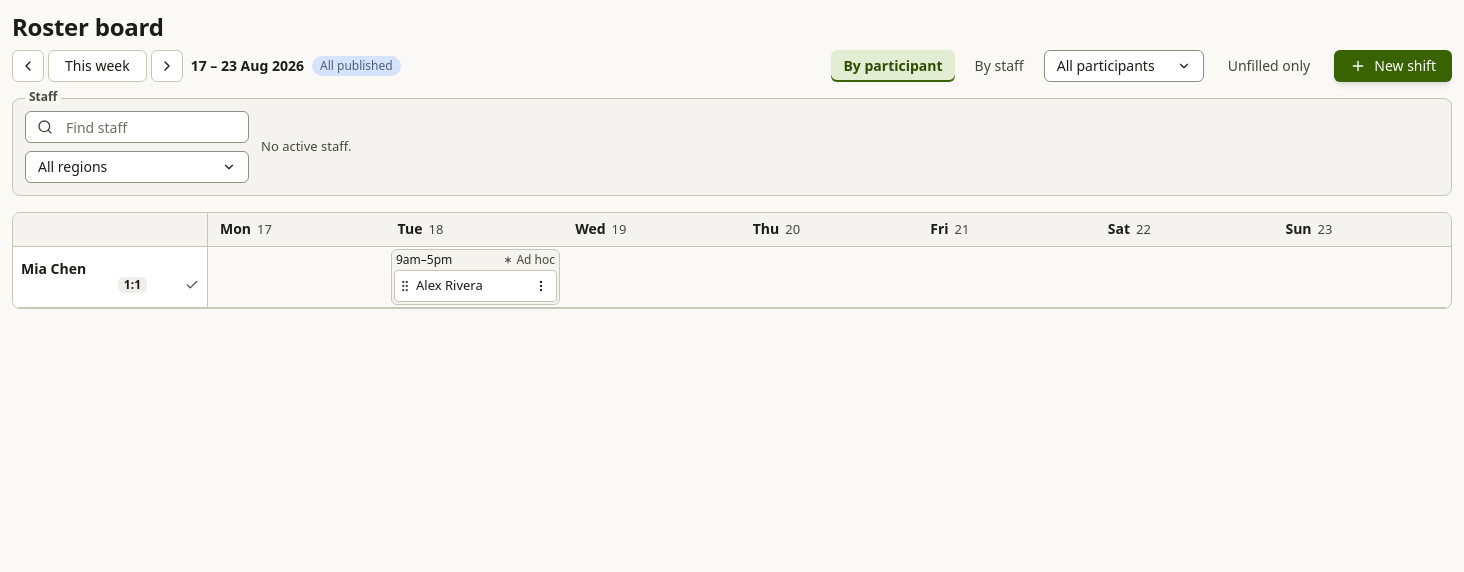
RosterBoardPage — an assign the server refuses is no longer swallowed › is cleared when the next attempt starts, even before it finishes
Click the button named "Actions for Mia Chen's shift".
click(541, 286)  # box [529,274,553,298]
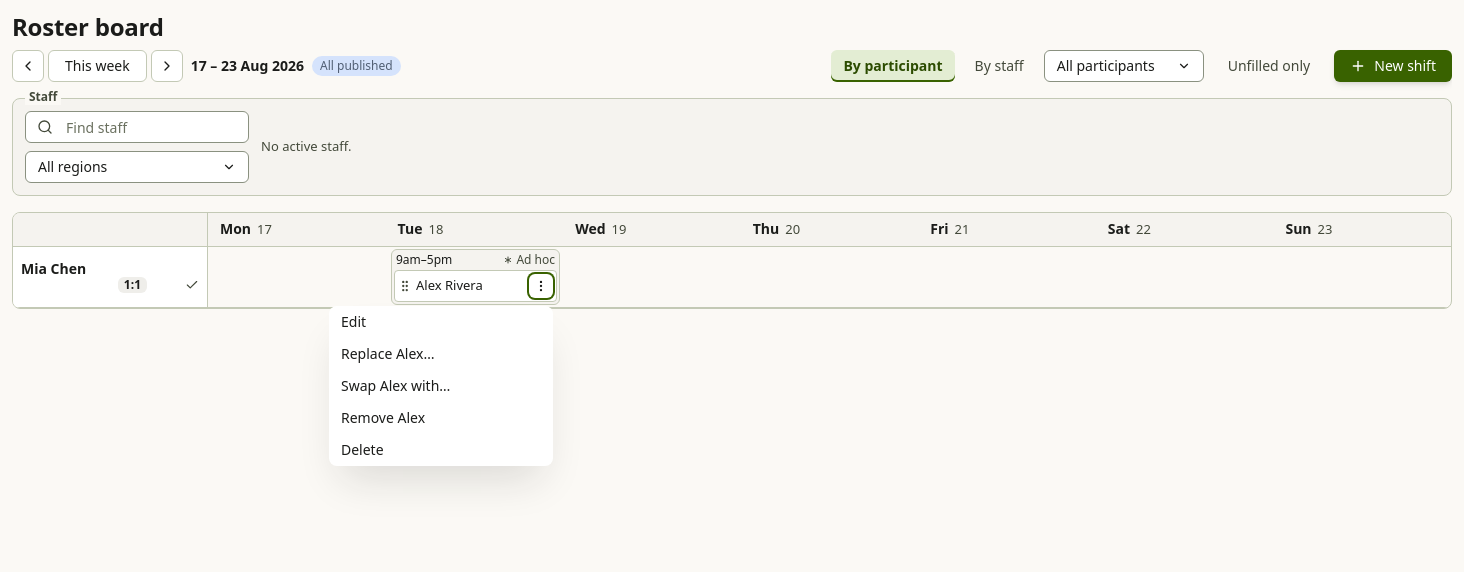
Click the option "Remove Alex".
click(383, 417)  # box [341,408,425,426]
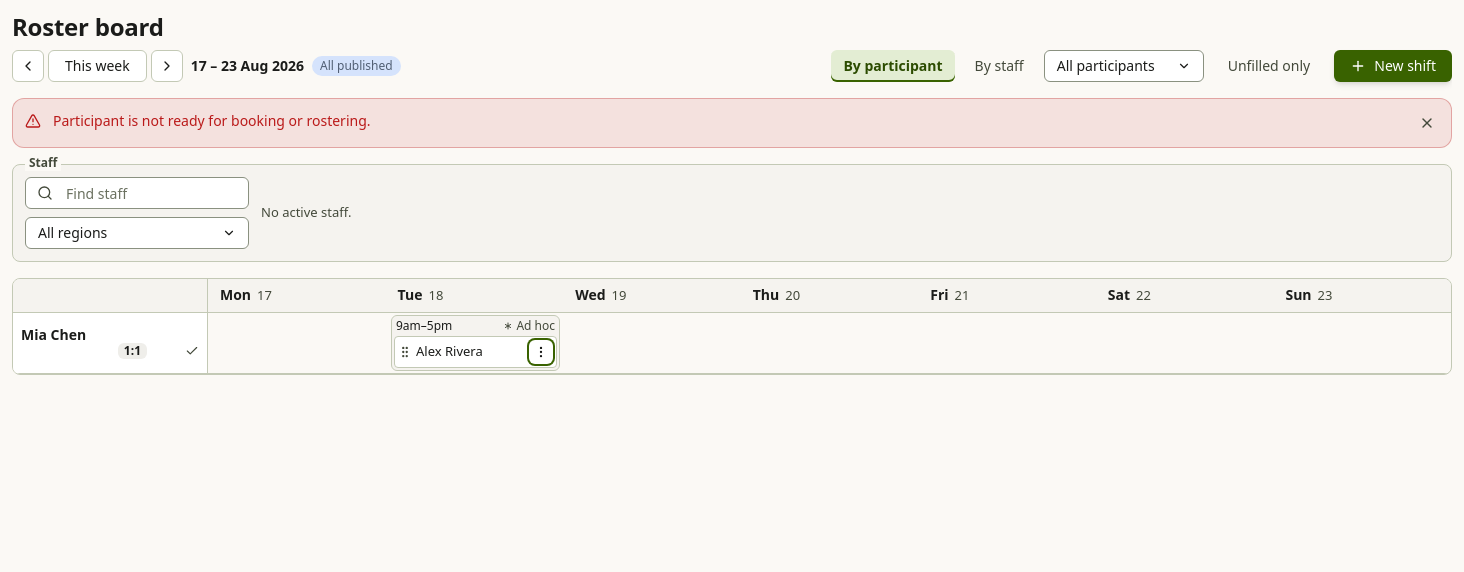
Expected: the text "Participant is not ready for booking or rostering." is shown, [53,111,370,130]
Click the button named "Actions for Mia Chen's shift".
click(541, 352)  # box [529,340,553,364]
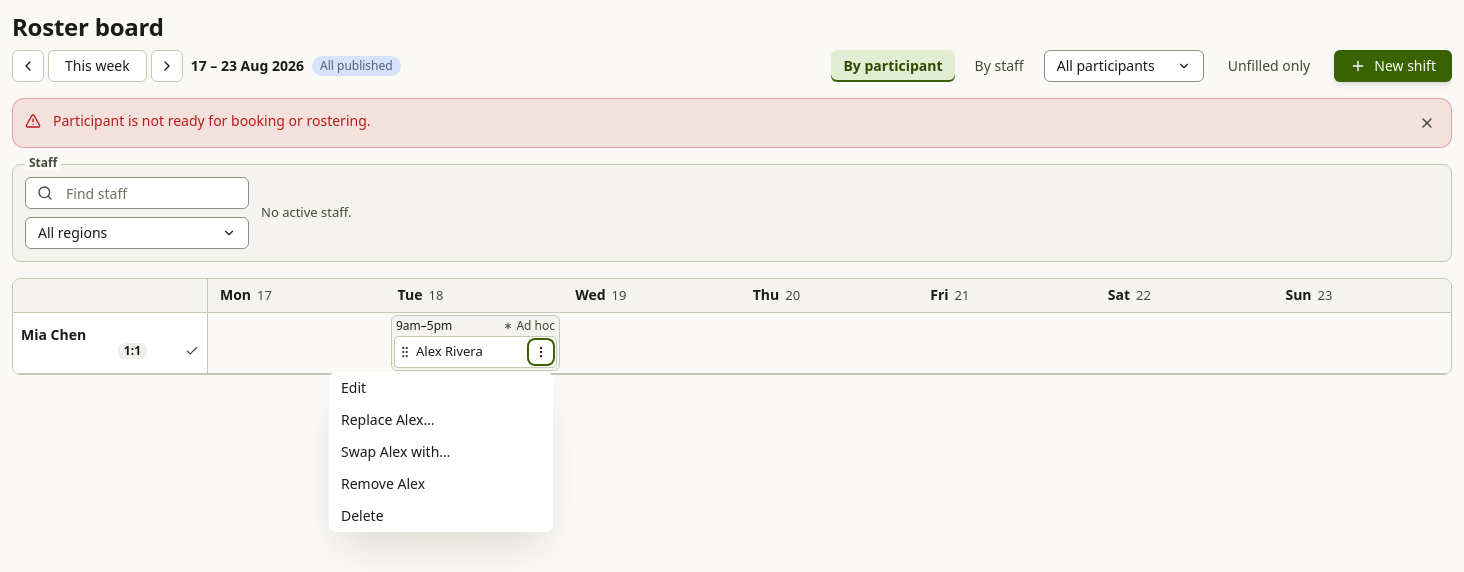
Click the option "Remove Alex".
click(383, 483)  # box [341,474,425,492]
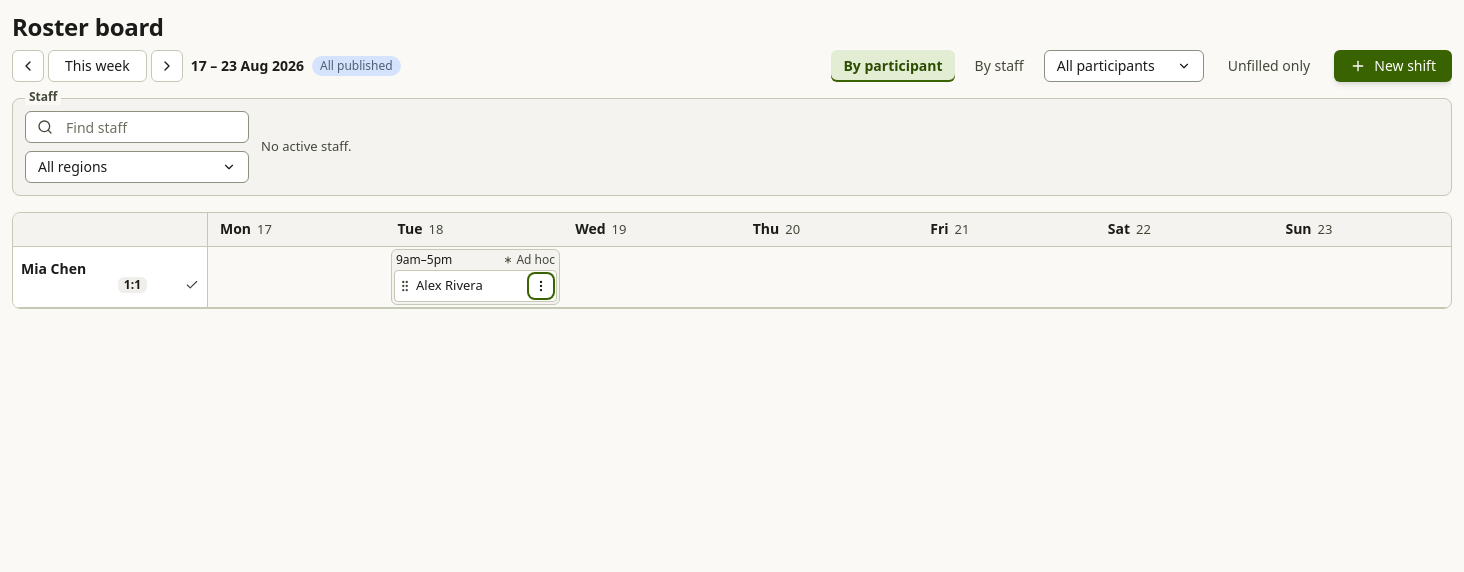
Expected: the text "Participant is not ready for booking or rostering." is gone
